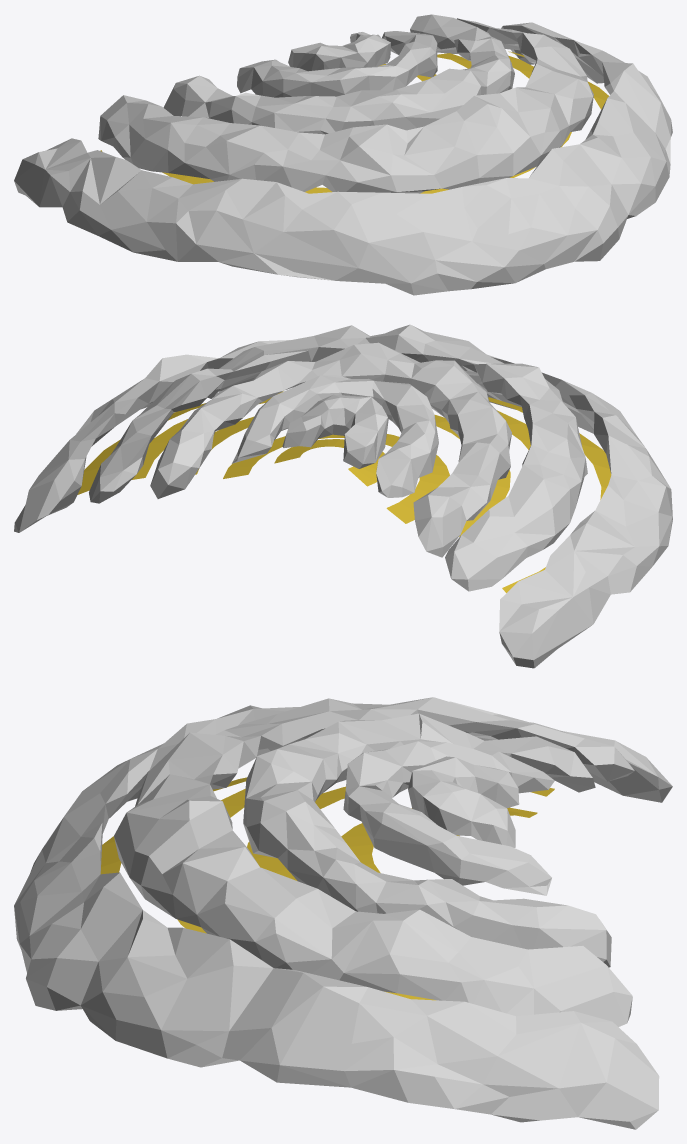
File: TLmushroom3_unity.fbx
The picture shows the model from 3 angles, top to bottom: view 1: azimuth 30°, elevation 25°; view 2: azimuth 150°, elevation 25°; view 3: azimuth 270°, elevation 25°; orthographic projection. The views are drawn at different scales.
Visible parts, largest first — view 1: Cone.008; view 2: Cone.008; view 3: Cone.008.
Part boxes in pixels (left/top/right/bottom): Cone.008: left=14, top=14, right=672, bottom=295; Cone.008: left=14, top=324, right=672, bottom=668; Cone.008: left=14, top=697, right=672, bottom=1129.
Bounding box in the file's own units: 231 × 57.44 × 176.
